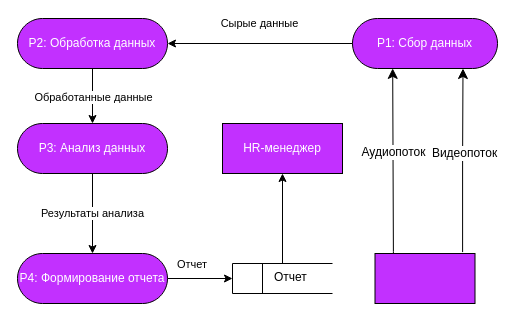
This 515x321 diagram has some shape labels left out. Each missing label, with the box of its shape:
D1: (232, 262, 332, 294)
Источник данных: (374, 252, 475, 304)
